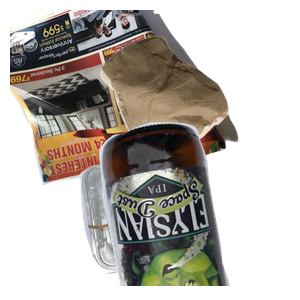glass: (97, 120, 300, 300)
paper: (10, 10, 241, 188)
plastic: (76, 151, 270, 300)
trash: (98, 34, 300, 211)
